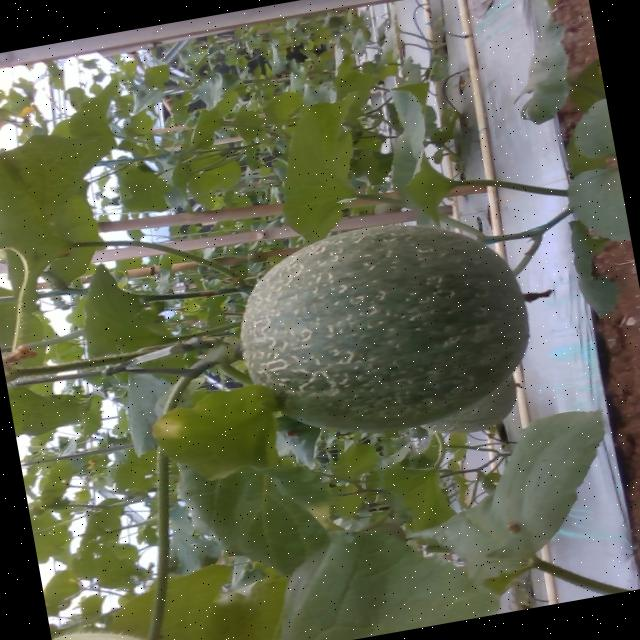melon: (241, 223, 529, 429)
